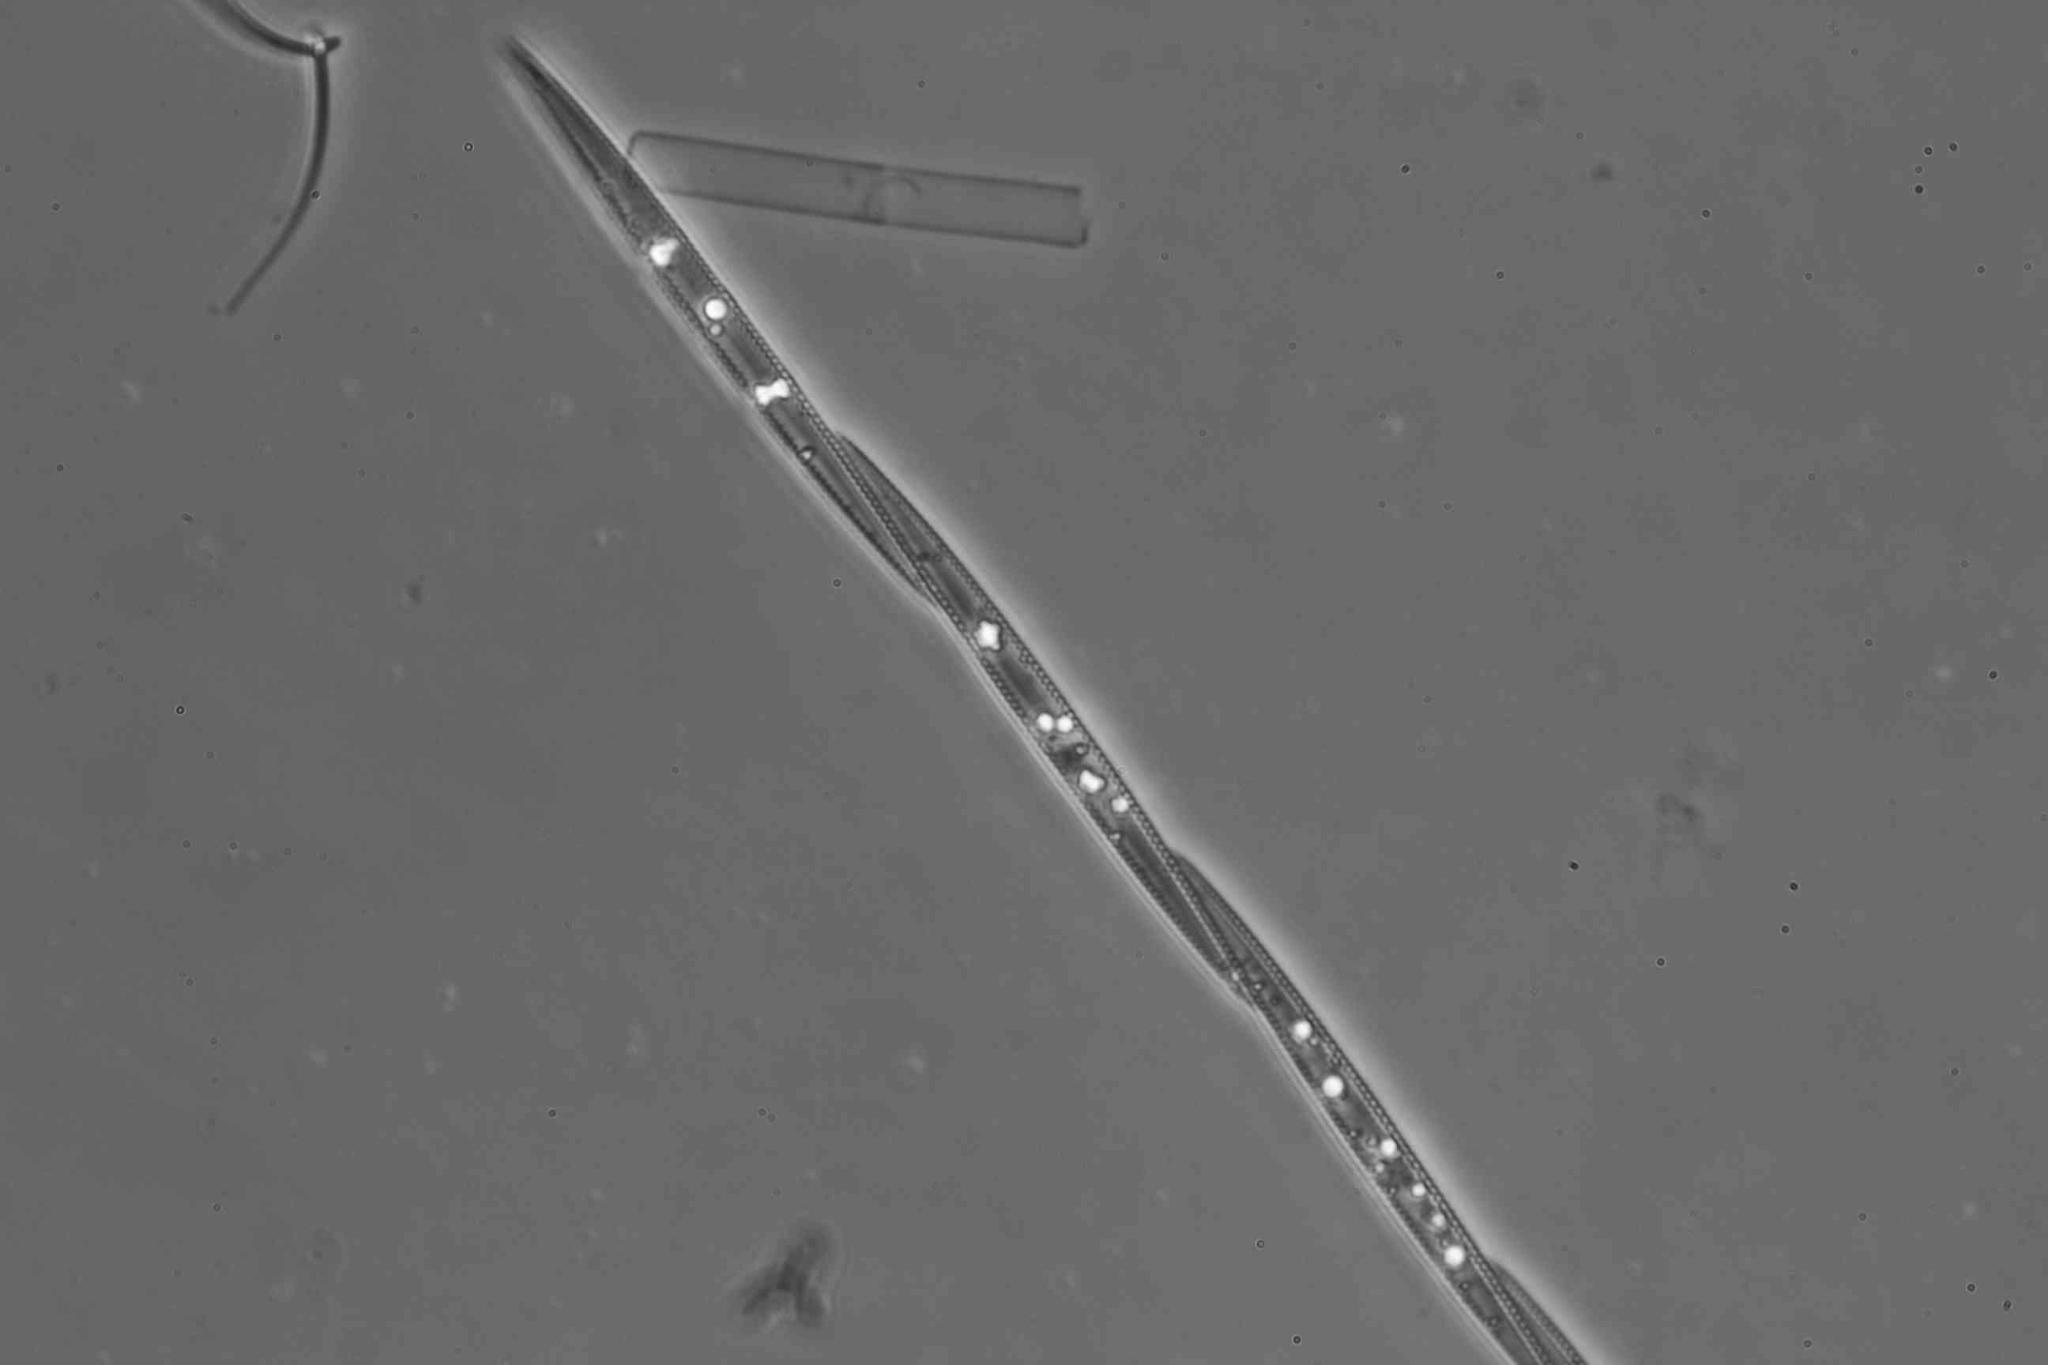pseudo_nitzschia: (496, 37, 1584, 1365)
